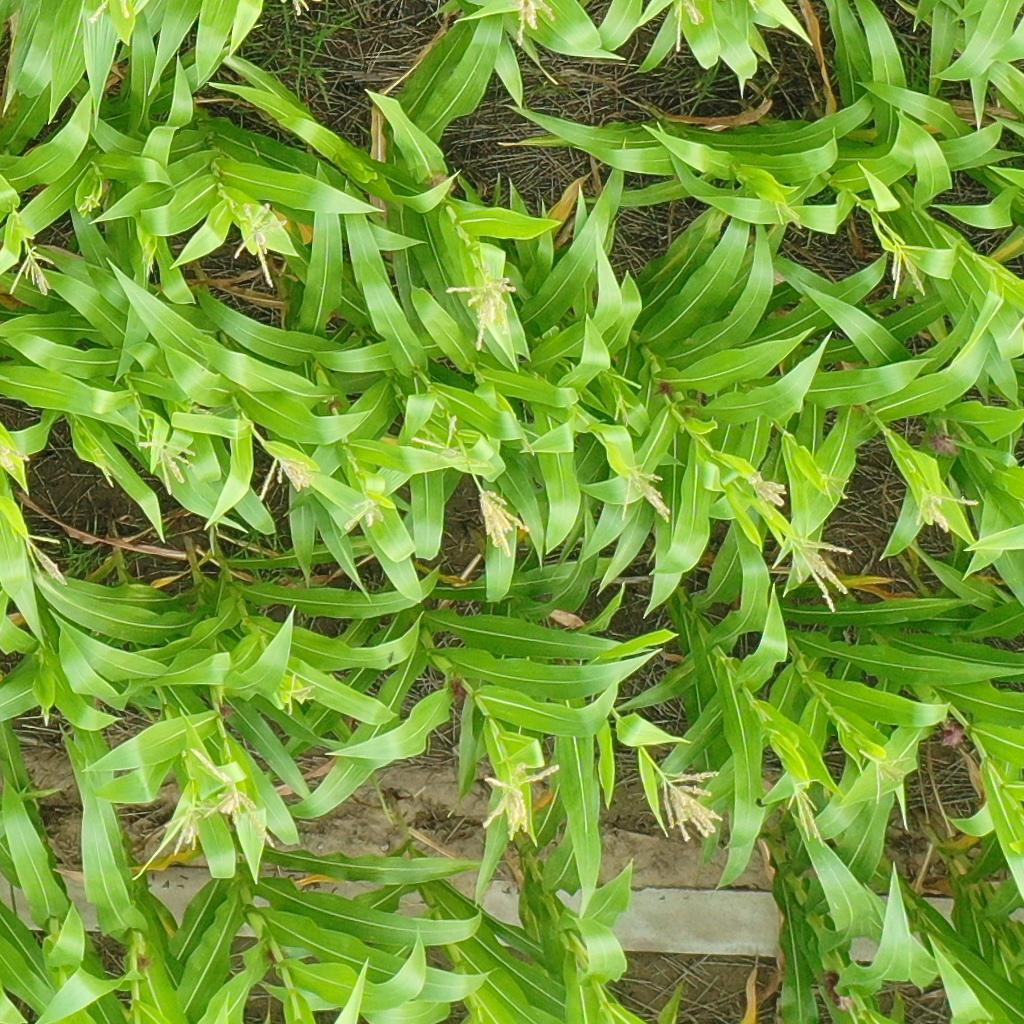Tassel: (191, 749, 280, 847), (482, 762, 562, 844), (777, 535, 857, 616), (130, 802, 213, 880), (442, 270, 517, 352), (227, 202, 287, 287), (661, 768, 724, 843), (911, 482, 980, 536), (477, 490, 530, 559), (619, 466, 676, 529), (137, 439, 194, 496), (857, 744, 910, 804), (257, 452, 316, 503), (787, 774, 825, 850), (409, 415, 467, 462), (24, 530, 69, 590), (887, 232, 926, 299), (7, 246, 56, 299), (747, 470, 790, 520), (512, 1, 559, 46), (671, 1, 700, 52), (340, 498, 383, 531), (282, 674, 315, 715), (771, 196, 803, 230), (92, 448, 117, 490), (818, 473, 850, 505), (611, 394, 637, 427), (1, 444, 29, 474), (519, 427, 542, 454), (76, 195, 101, 214), (140, 249, 155, 278)
